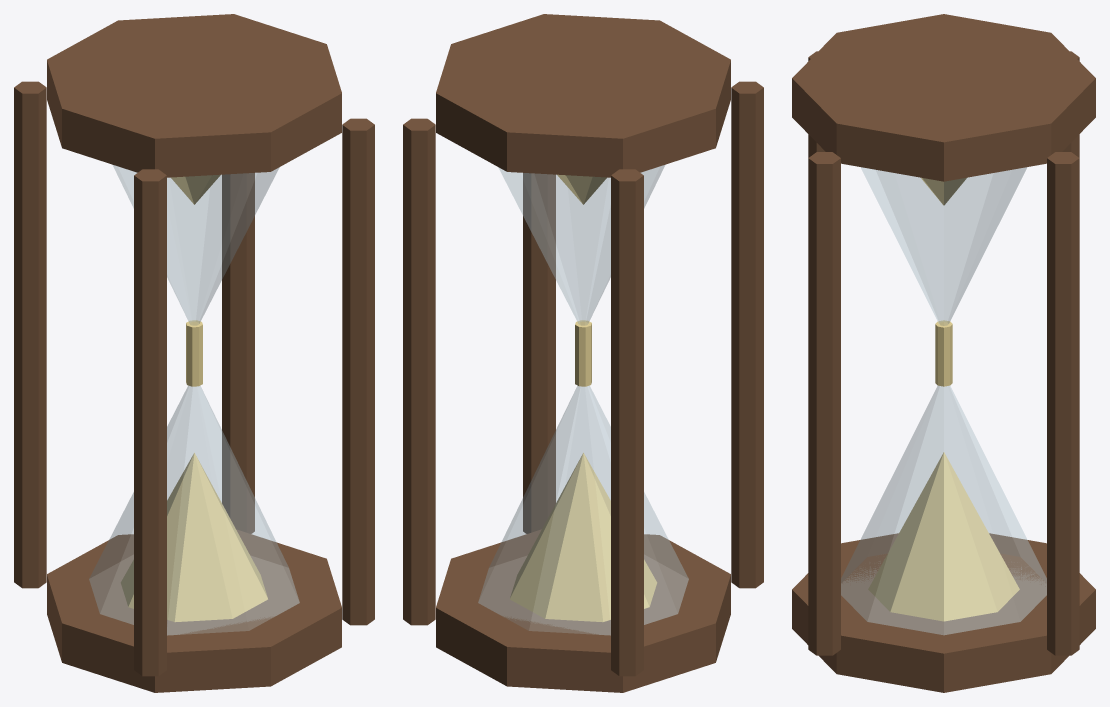
Rendered from std_hourglass.glb.
3 views of the same model, side by side, from view 1: azimuth 30°, elevation 25°; view 2: azimuth 150°, elevation 25°; view 3: azimuth 270°, elevation 25° (orthographic).
Visible parts, largest first — view 1: std_hourglass; view 2: std_hourglass; view 3: std_hourglass.
Part boxes in pixels (box(x1,y1,x2,y2)): std_hourglass: box(14, 14, 374, 692); std_hourglass: box(403, 14, 763, 692); std_hourglass: box(792, 14, 1095, 692).
Size of the model in its own units: 0.14 by 0.28 by 0.14.
